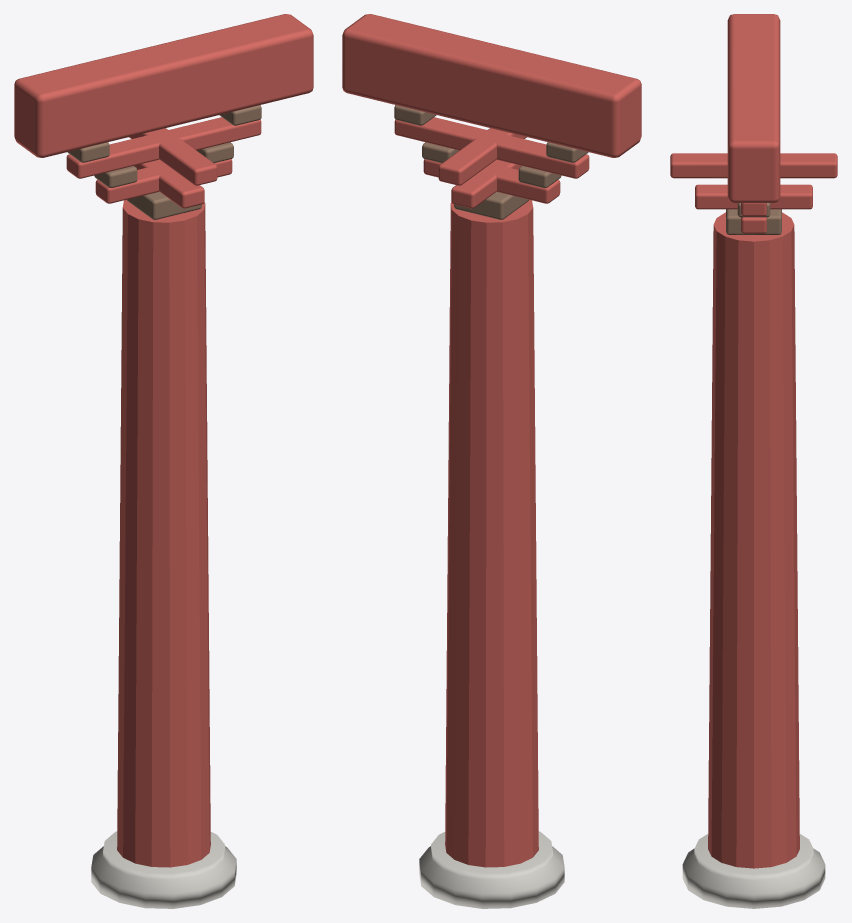
File: column.glb
3 renders of one model, left to right at view 1: azimuth 30°, elevation 25°; view 2: azimuth 150°, elevation 25°; view 3: azimuth 270°, elevation 25°, orthographic. The views are drawn at different scales.
Parts seen in each view (by area): view 1: lacquered-column-and-bracket; view 2: lacquered-column-and-bracket; view 3: lacquered-column-and-bracket.
Boxes of the visible parts, x1,y1,x2,y2 form: lacquered-column-and-bracket: (14,14,313,908); lacquered-column-and-bracket: (342,14,641,908); lacquered-column-and-bracket: (670,14,837,908).
Size of the model in its own units: 1.9 by 5.39 by 1.02.
